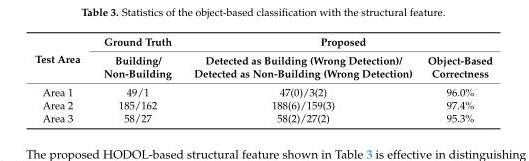table: (34, 34, 492, 124)
table column: (182, 34, 419, 124), (91, 34, 182, 124), (419, 34, 492, 124), (34, 34, 91, 124)
table column header: (34, 34, 492, 82)
table row: (34, 50, 492, 82), (34, 34, 492, 50), (34, 82, 492, 98), (34, 98, 492, 111), (34, 111, 492, 124)
table spanning cell: (182, 34, 492, 50), (91, 34, 182, 82), (34, 34, 91, 82)
